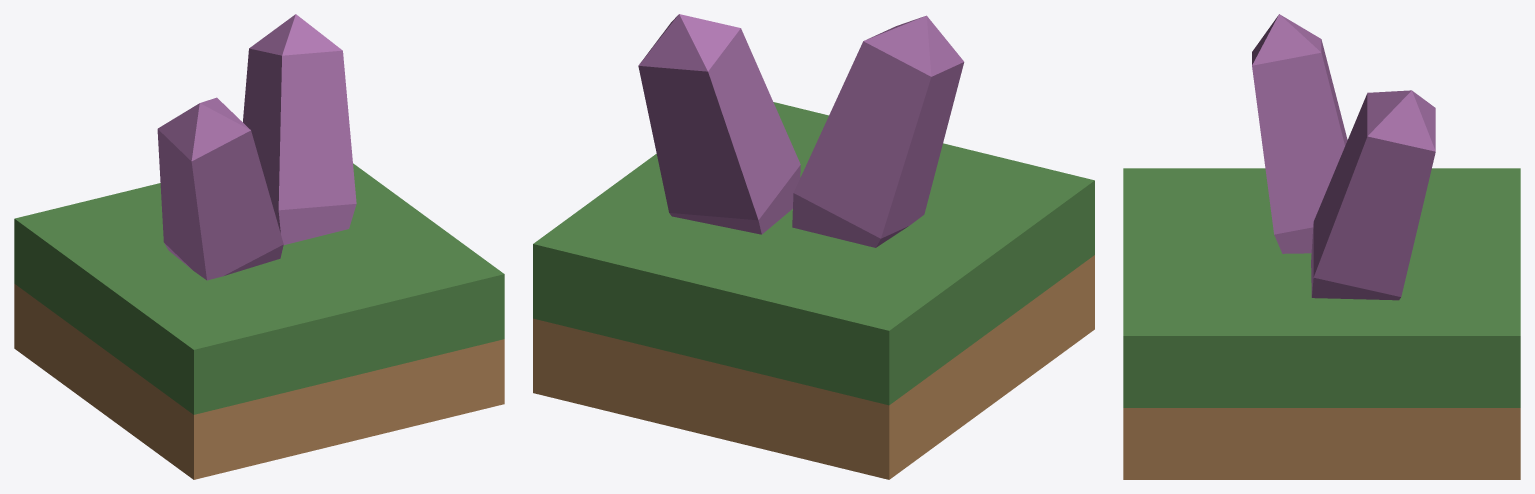
File: towerDefense_119.obj
3 views of the same model, side by side, from view 1: azimuth 30°, elevation 25°; view 2: azimuth 150°, elevation 25°; view 3: azimuth 270°, elevation 25° (orthographic). The views are drawn at different scales.
Parts seen in each view (by area): view 1: Mesh1 Group2 Group1 Model, Mesh3 Group4 Group1 Model, Mesh2 Group3 Group1 Model; view 2: Mesh1 Group2 Group1 Model, Mesh2 Group3 Group1 Model, Mesh3 Group4 Group1 Model; view 3: Mesh1 Group2 Group1 Model, Mesh3 Group4 Group1 Model, Mesh2 Group3 Group1 Model.
Part boxes in pixels (x1,y1,x2,y2): Mesh1 Group2 Group1 Model: (14, 163, 504, 479); Mesh3 Group4 Group1 Model: (243, 14, 356, 244); Mesh2 Group3 Group1 Model: (157, 97, 283, 280); Mesh1 Group2 Group1 Model: (533, 102, 1094, 479); Mesh2 Group3 Group1 Model: (792, 15, 964, 247); Mesh3 Group4 Group1 Model: (638, 14, 800, 234); Mesh1 Group2 Group1 Model: (1123, 168, 1520, 479); Mesh3 Group4 Group1 Model: (1311, 90, 1435, 300); Mesh2 Group3 Group1 Model: (1252, 14, 1347, 253).
Size of the model in its own units: 1 by 0.9653 by 1.
